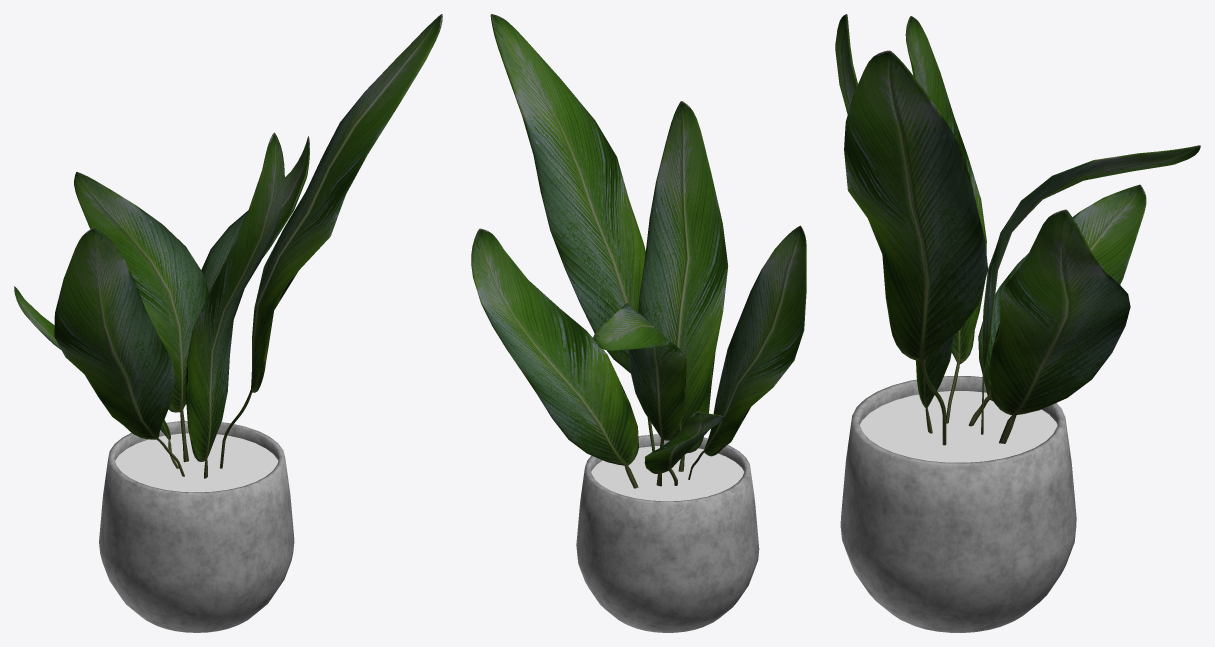
File: Plant A.fbx
3 views of the same model, side by side, from view 1: azimuth 30°, elevation 25°; view 2: azimuth 150°, elevation 25°; view 3: azimuth 270°, elevation 25° (orthographic). The views are drawn at different scales.
Visible parts, largest first — view 1: Pot A, Plane A1.002, Plane A1, Plane A1.005, Plane A1.001, Circle, Plane A1.003, Plane A1.004; view 2: Pot A, Plane A1, Plane A1.001, Plane A1.003, Plane A1.002, Plane A1.005, Circle, Plane A1.004; view 3: Pot A, Plane A1, Plane A1.003, Circle, Plane A1.004, Plane A1.005, Plane A1.002, Plane A1.001.
Part boxes in pixels (left/top/right/bottom): Pot A: left=99, top=421, right=294, bottom=632; Plane A1.002: left=54, top=227, right=184, bottom=476; Plane A1: left=219, top=14, right=442, bottom=468; Plane A1.005: left=74, top=172, right=208, bottom=462; Plane A1.001: left=186, top=132, right=284, bottom=478; Circle: left=115, top=433, right=278, bottom=492; Plane A1.003: left=201, top=136, right=309, bottom=292; Plane A1.004: left=14, top=286, right=178, bottom=468; Pot A: left=576, top=434, right=759, bottom=632; Plane A1: left=490, top=14, right=654, bottom=451; Plane A1.001: left=638, top=101, right=727, bottom=471; Plane A1.003: left=471, top=228, right=638, bottom=488; Plane A1.002: left=688, top=225, right=806, bottom=479; Plane A1.005: left=593, top=303, right=686, bottom=486; Circle: left=591, top=446, right=743, bottom=501; Plane A1.004: left=644, top=411, right=725, bottom=485; Pot A: left=840, top=376, right=1076, bottom=632; Plane A1: left=844, top=50, right=987, bottom=445; Plane A1.003: left=988, top=209, right=1130, bottom=443; Circle: left=860, top=391, right=1057, bottom=462; Plane A1.004: left=968, top=184, right=1146, bottom=426; Plane A1.005: left=981, top=145, right=1200, bottom=434; Plane A1.002: left=905, top=16, right=986, bottom=423; Plane A1.001: left=835, top=14, right=955, bottom=433.
Bounding box in the file's own units: 1.07 × 1.6 × 0.7735.
